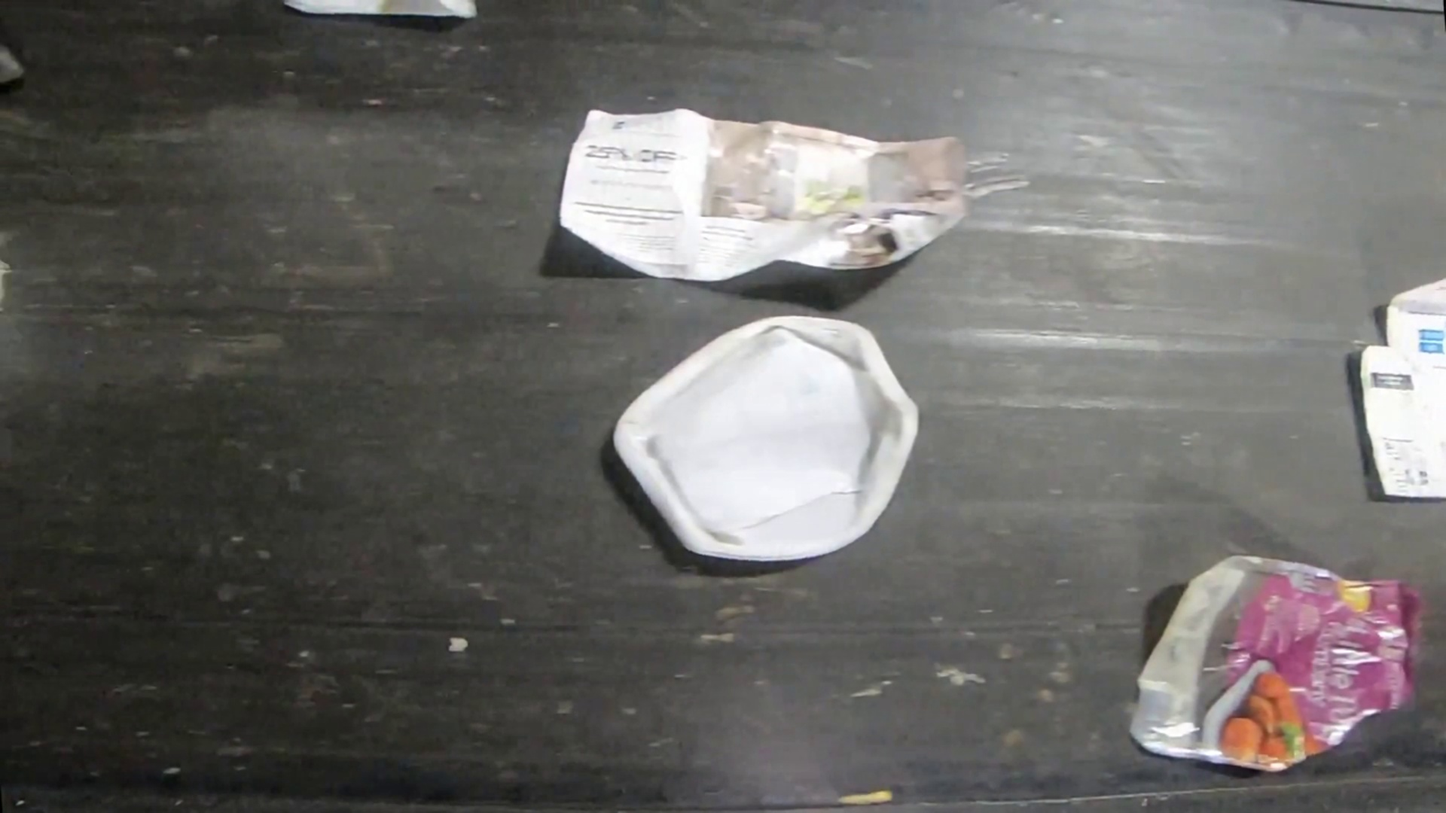cardboard: (1357, 276, 1446, 499)
plastic: (609, 313, 918, 561), (1129, 554, 1424, 773), (1, 39, 27, 89)
